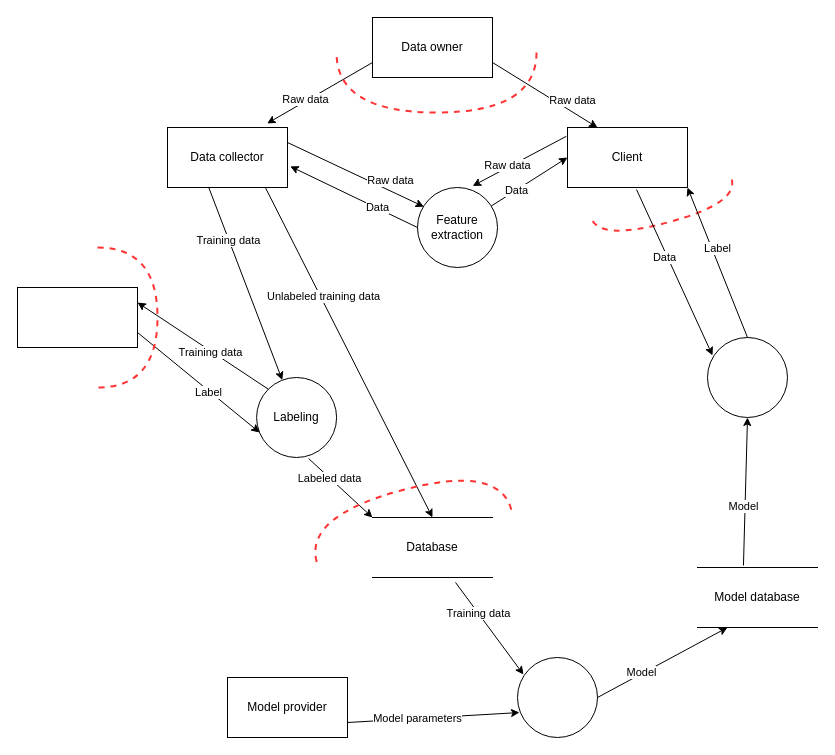
The diagram is 835 pixels wide and 755 high, and some of its shapes have lost their labels. The shapes that lost their labels are listed below. From the top down, each one's centre as x and y in pixels, then its label:
At pixel 77 317: "Labeler".
At pixel 747 377: "Inference".
At pixel 557 697: "Training".
